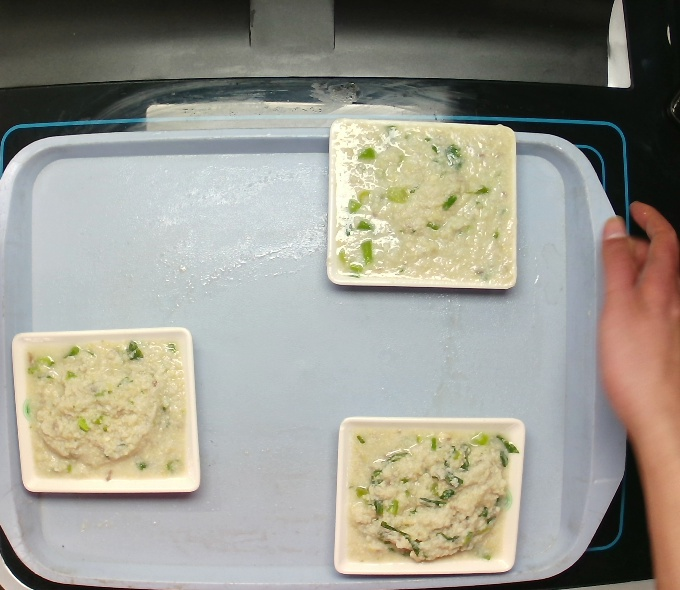wcq-QinCaiDouFuZha: (333, 106, 526, 299), (341, 405, 522, 585), (23, 332, 190, 493)
